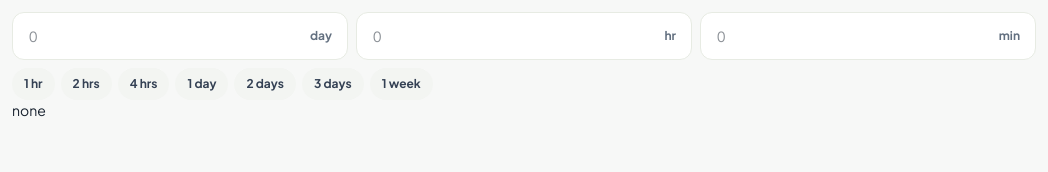
Test: DurationInput for a job that may take days › fills the fields from a preset, and a short job is still a few hours
Click the button "2 days" at (265, 84), box [234,68,296,100]
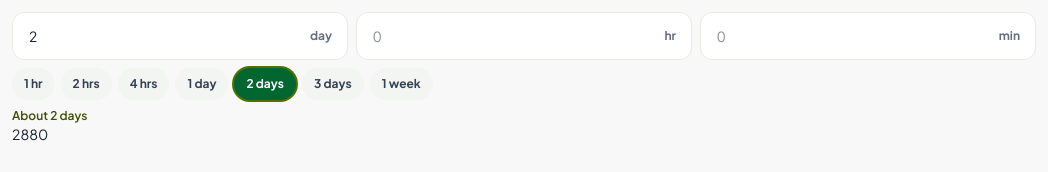
Expected: the field named "Days" holds "2", [12,12,348,60]
Expected: the text named "Total" reads "2880", [12,125,48,143]
Click the button "2 hrs" at (86, 84), box [61,68,112,100]
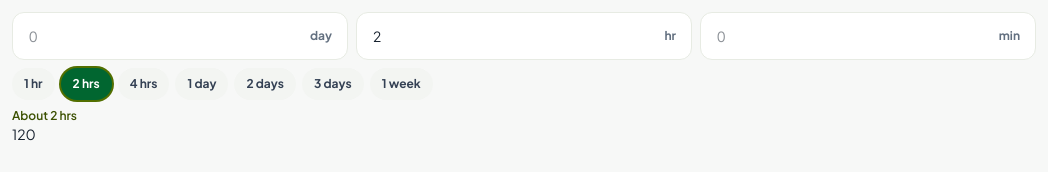
Expected: the field named "Days" is empty, [12,12,348,60]
Expected: the field named "Hours" holds "2", [356,12,692,60]
Expected: the text named "Total" reads "120", [12,125,36,143]
